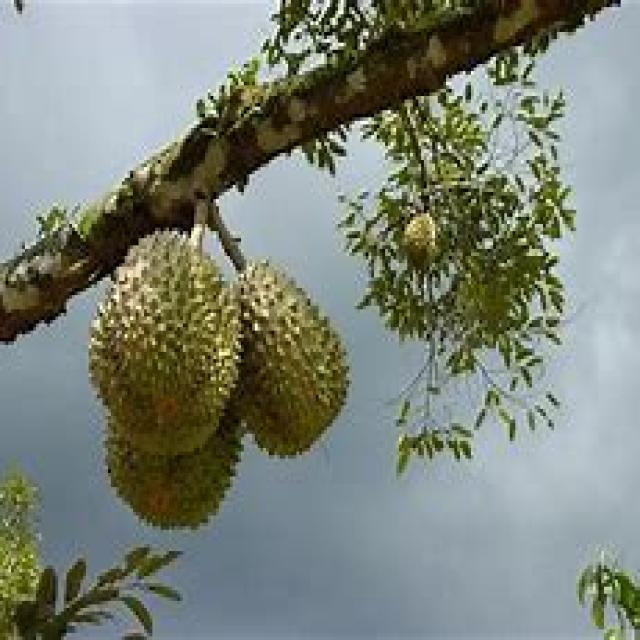mature: (90, 233, 240, 455), (240, 261, 349, 455)
